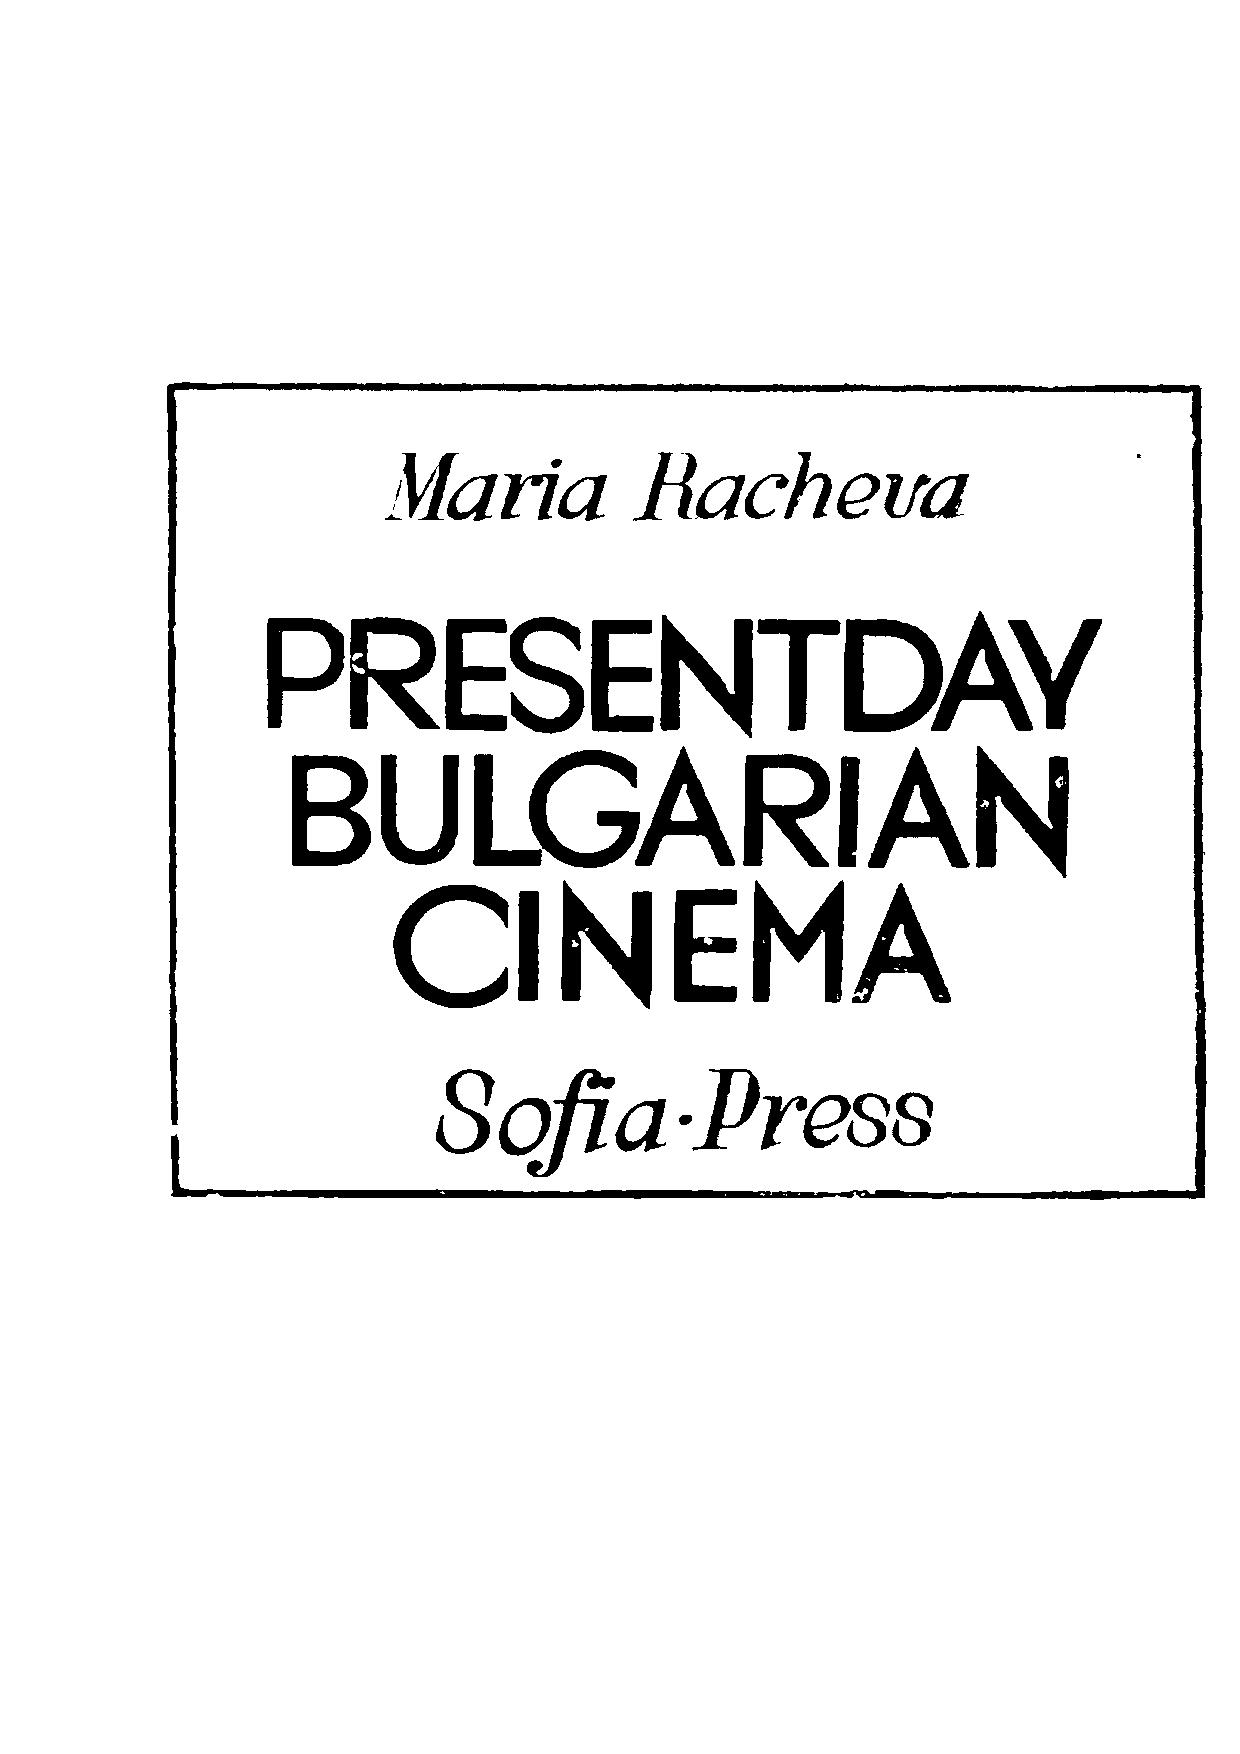author: (378, 448, 972, 523)
title: (263, 612, 1103, 1013)
